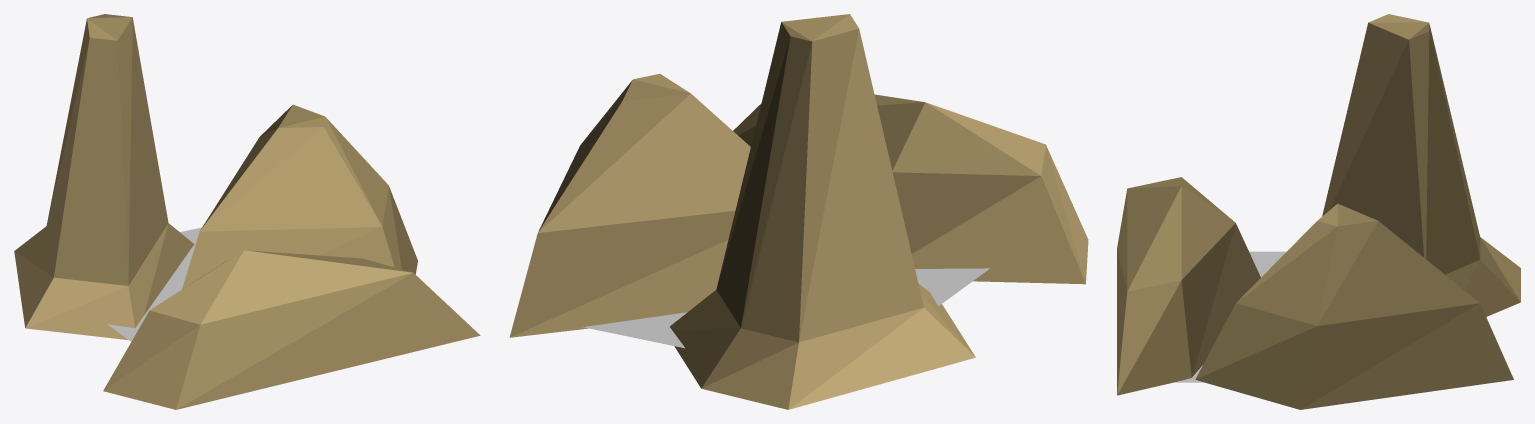
Rendered from drockclay.fbx.
The picture shows the model from 3 angles, left to right: view 1: azimuth 30°, elevation 25°; view 2: azimuth 150°, elevation 25°; view 3: azimuth 270°, elevation 25°; orthographic projection. The views are drawn at different scales.
Parts seen in each view (by area): view 1: Object Clay rocks 2024-03-16_08-20-58; view 2: Object Clay rocks 2024-03-16_08-20-58; view 3: Object Clay rocks 2024-03-16_08-20-58.
Part boxes in pixels (x1,y1,x2,y2): Object Clay rocks 2024-03-16_08-20-58: (14,14,480,409); Object Clay rocks 2024-03-16_08-20-58: (509,14,1088,409); Object Clay rocks 2024-03-16_08-20-58: (1117,14,1520,409).
Bounding box in the file's own units: 12500 × 8400 × 11900.
